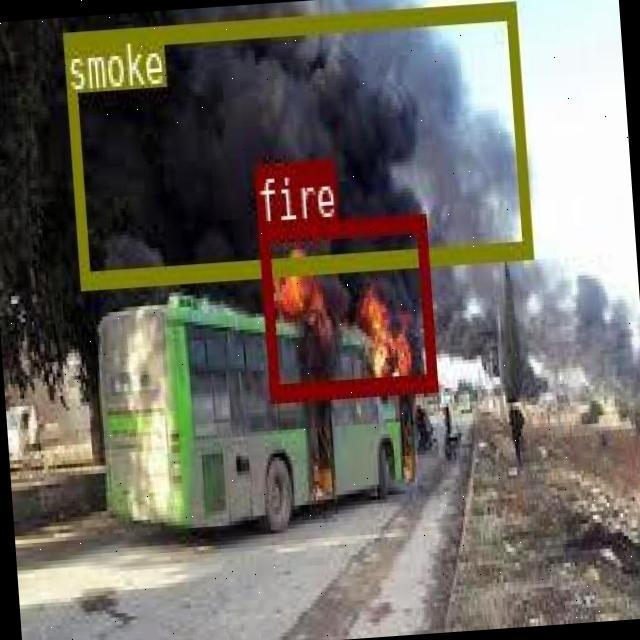fire: (258, 212, 436, 398)
smoke: (62, 0, 530, 284)
